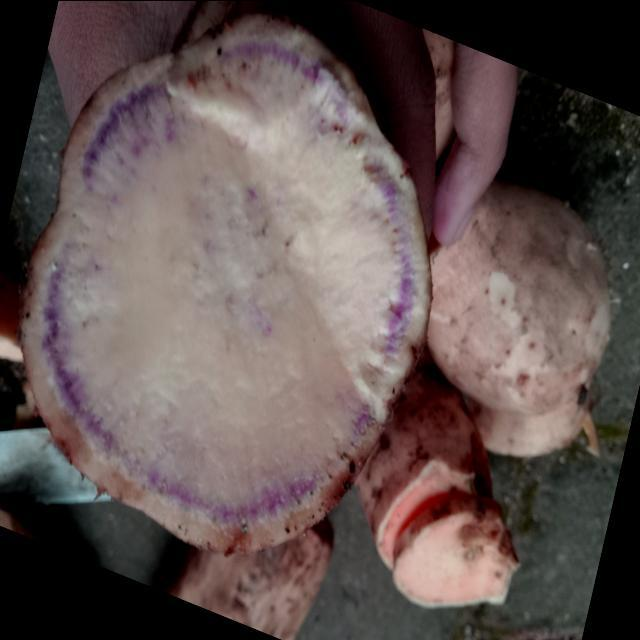Healthy Sweet Potato: (19, 13, 431, 552)
